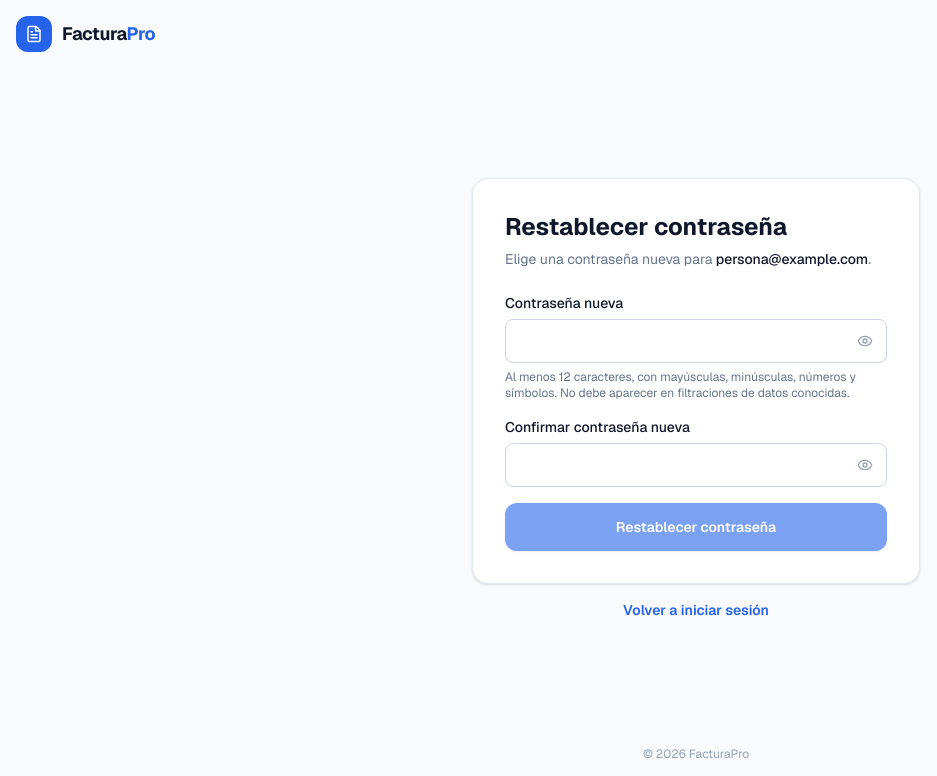
/restablecer-contrasena (Fase 6.32, D2) › restablece con el token del enlace, cierra la sesión local y lleva al login
Type "Nueva-Segura-2026!" into the password field labelled "Contraseña nueva" at {"x": 696, "y": 341}, box [505, 319, 887, 363]
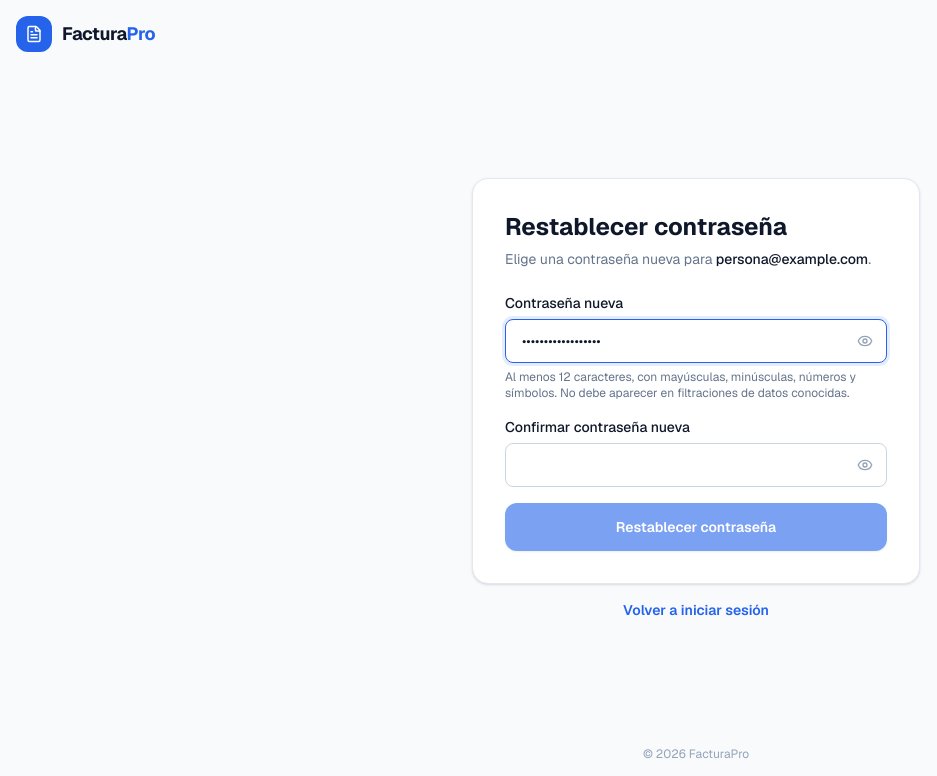
Type "Nueva-Segura-2026!" into the password field labelled "Confirmar contraseña nueva" at {"x": 696, "y": 465}, box [505, 443, 887, 487]
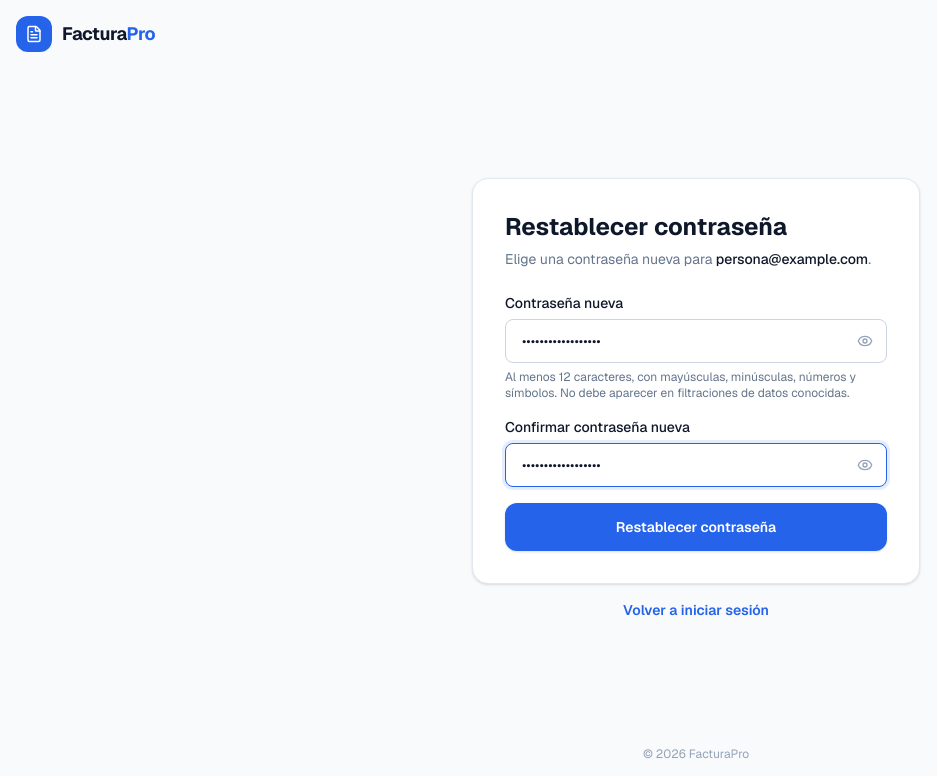
Click the button "Restablecer contraseña" at {"x": 696, "y": 527}, box [505, 503, 887, 551]
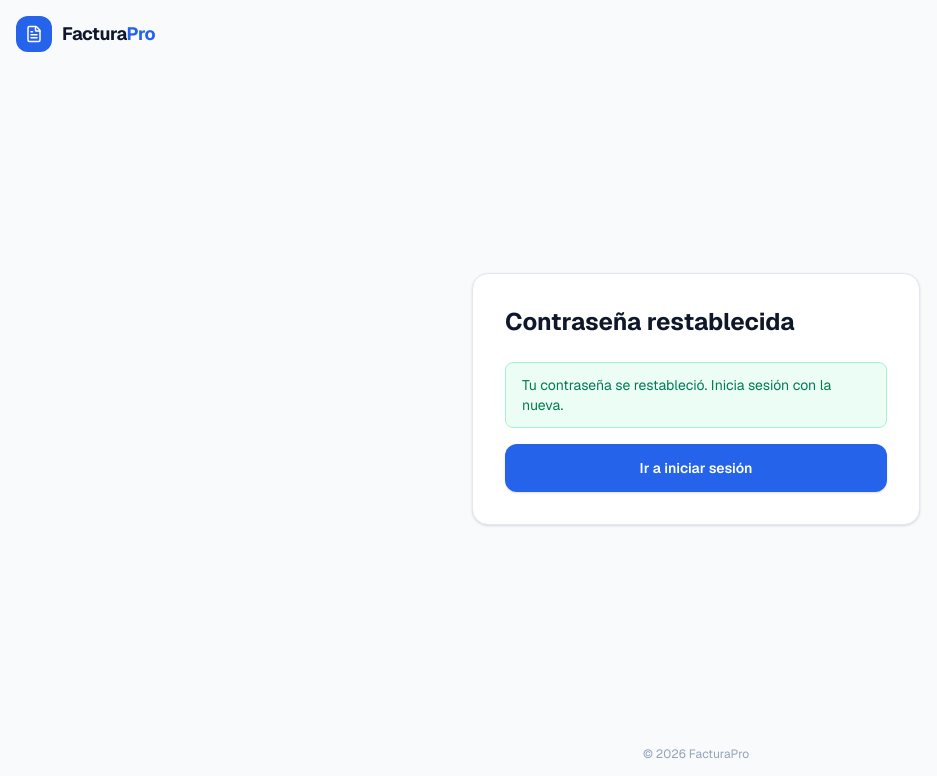
Expected: the message shows "Tu contraseña se restableció", [522, 376, 831, 414]
